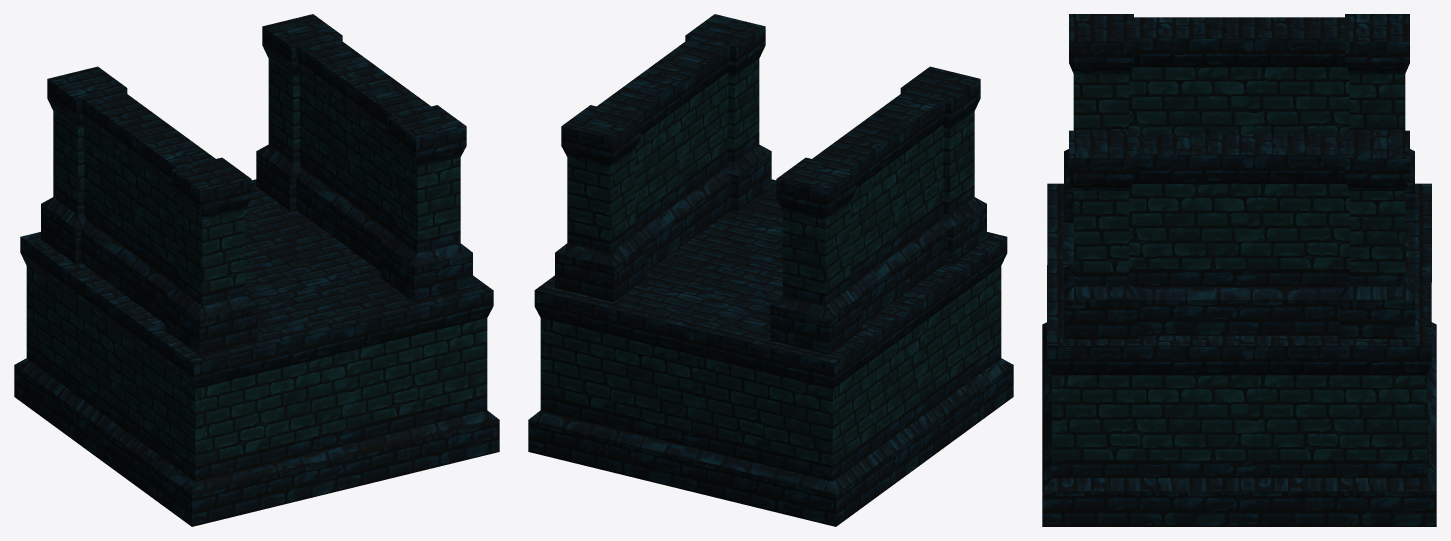
Rendered from tile-hall.glb.
The picture shows the model from 3 angles, left to right: view 1: azimuth 30°, elevation 25°; view 2: azimuth 150°, elevation 25°; view 3: azimuth 270°, elevation 25°; orthographic projection. The views are drawn at different scales.
Visible parts, largest first — view 1: mergedBlocks(Clone); view 2: mergedBlocks(Clone); view 3: mergedBlocks(Clone).
Part boxes in pixels (box(x1,y1,x2,y2)): mergedBlocks(Clone): box(14, 14, 499, 526); mergedBlocks(Clone): box(528, 14, 1013, 526); mergedBlocks(Clone): box(1042, 14, 1436, 526).
Size of the model in its own units: 2 by 2 by 2.
2 materials, 2 textured.
